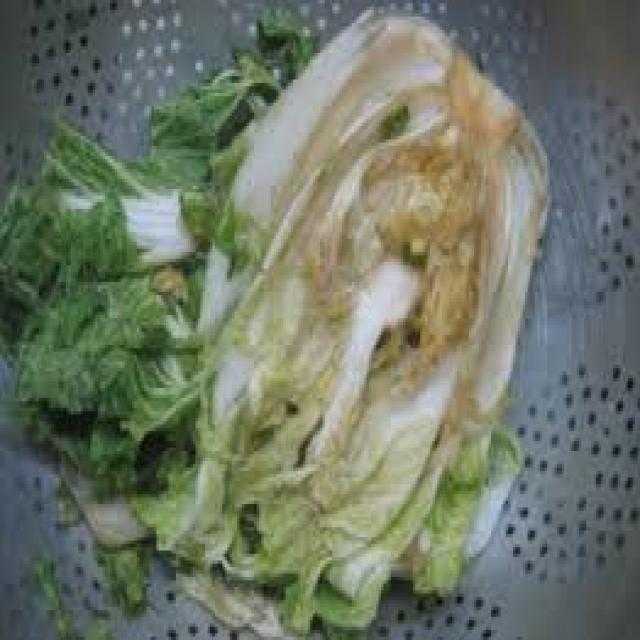organic waste: (169, 10, 547, 637), (0, 116, 200, 471), (147, 13, 306, 159), (71, 474, 146, 547), (74, 491, 156, 544), (41, 560, 80, 637), (105, 540, 149, 604), (51, 464, 88, 534)
